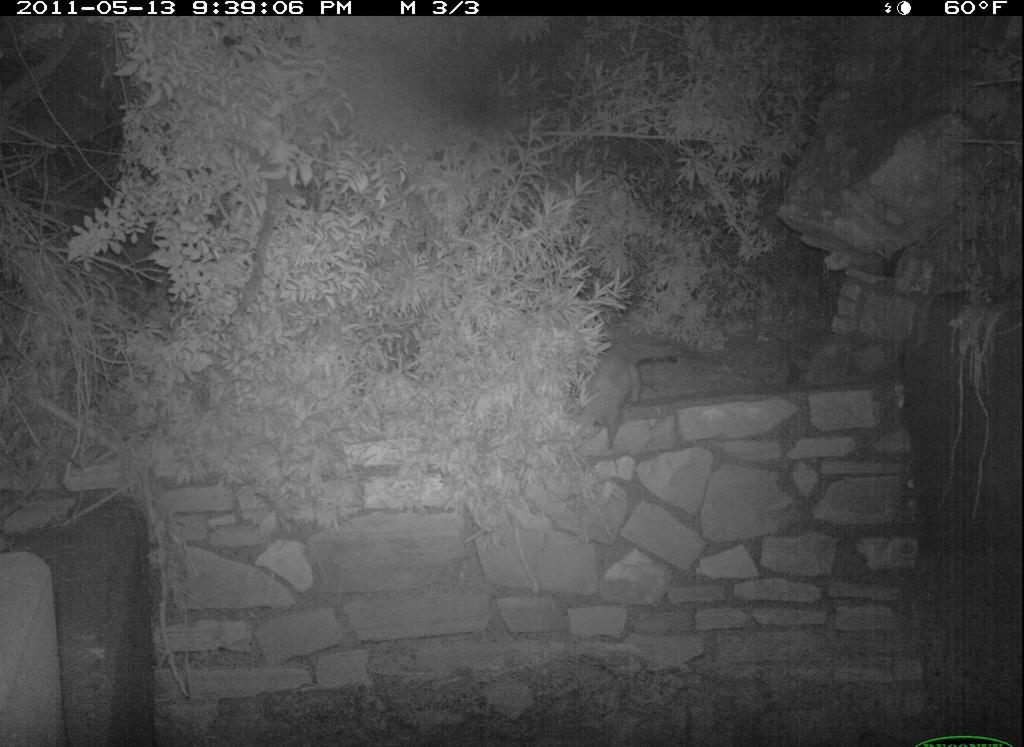opossum: (557, 328, 661, 489)
